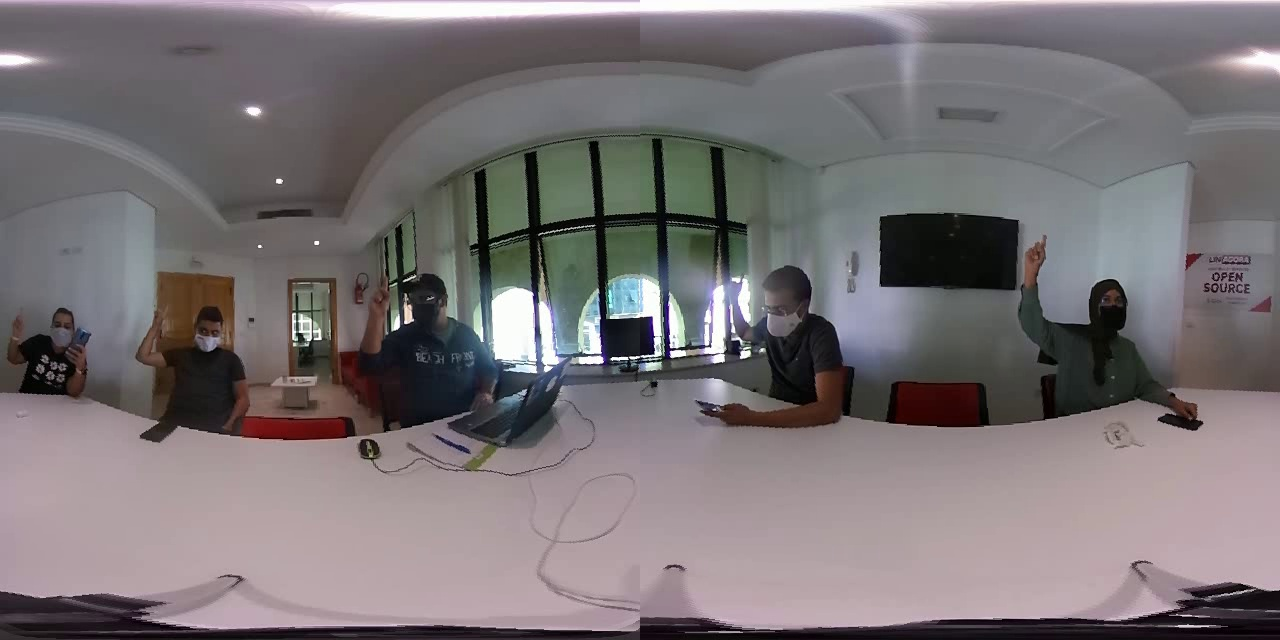person: (1013, 222, 1168, 429), (352, 263, 519, 431), (710, 253, 860, 437), (129, 297, 261, 441), (3, 296, 101, 404), (718, 259, 757, 365)
speaking: (1017, 219, 1065, 362), (360, 265, 397, 375), (131, 294, 173, 379), (2, 299, 34, 370)
